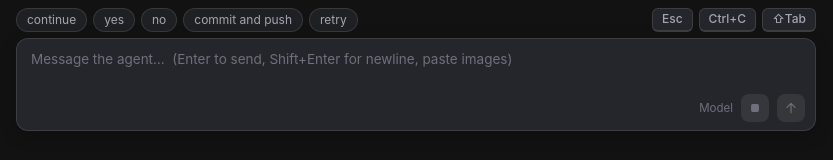
Test case: Composer completion › quotes a path with spaces
Replace the text in the text box with "@my" at (418,70), box top-left (31, 49), bottom-right (805, 90)
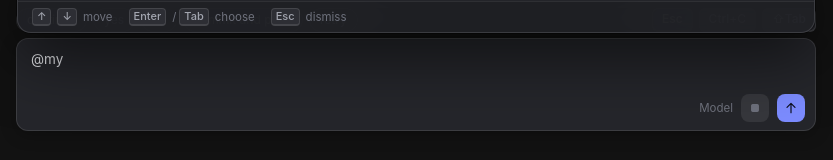
Press Enter in the text box, box top-left (31, 49), bottom-right (805, 90)
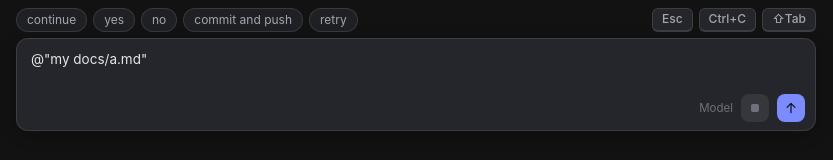
Check: the text box holds "@\"my docs/a.md\" ", box top-left (31, 49), bottom-right (805, 90)
